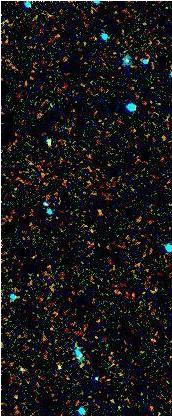star: (47, 352, 77, 382)
